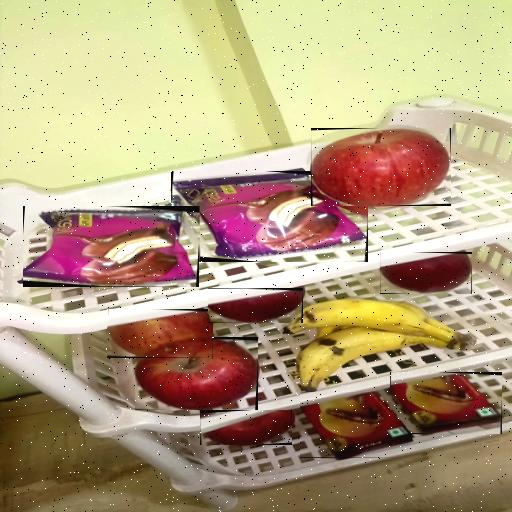Apple: (311, 128, 451, 206), (135, 337, 258, 410), (106, 309, 212, 358), (380, 252, 472, 294), (208, 288, 303, 323), (200, 410, 292, 445)
Choco Fills: (300, 392, 410, 458), (390, 372, 502, 434)
Choco Pie: (171, 171, 368, 262), (23, 206, 199, 287)
